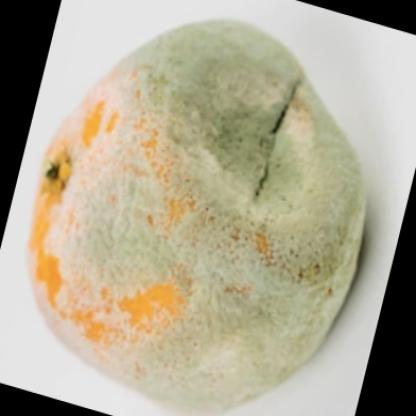rotten: (24, 21, 367, 402)
